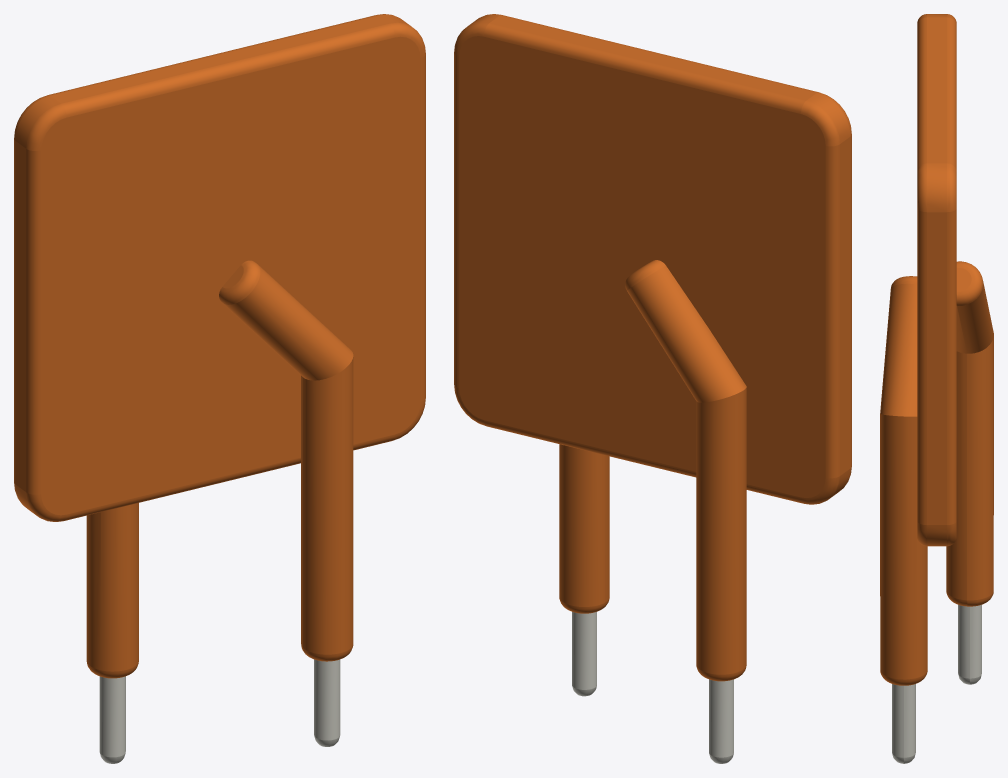
File: kc-fuse_belfuse_0zre_0zre0033ff_l11.4mm_w3.8mm.glb
3 views of the same model, side by side, from view 1: azimuth 30°, elevation 25°; view 2: azimuth 150°, elevation 25°; view 3: azimuth 270°, elevation 25° (orthographic). The views are drawn at different scales.
Parts seen in each view (by area): view 1: 0.5833333333333334_0.16666666666666666_0_0, 0.6666666666666666_0.6666666666666666_0.5833333333333334_0.8; view 2: 0.5833333333333334_0.16666666666666666_0_0, 0.6666666666666666_0.6666666666666666_0.5833333333333334_0.8; view 3: 0.5833333333333334_0.16666666666666666_0_0, 0.6666666666666666_0.6666666666666666_0.5833333333333334_0.8.
Boxes of the visible parts, bbox=[...] form: 0.5833333333333334_0.16666666666666666_0_0: bbox=[14, 14, 425, 678]; 0.6666666666666666_0.6666666666666666_0.5833333333333334_0.8: bbox=[99, 659, 340, 763]; 0.5833333333333334_0.16666666666666666_0_0: bbox=[454, 14, 851, 681]; 0.6666666666666666_0.6666666666666666_0.5833333333333334_0.8: bbox=[572, 612, 733, 763]; 0.5833333333333334_0.16666666666666666_0_0: bbox=[880, 14, 993, 685]; 0.6666666666666666_0.6666666666666666_0.5833333333333334_0.8: bbox=[892, 604, 981, 763].
Bounding box in the file's own units: 1.14 × 1.9 × 0.3096.
